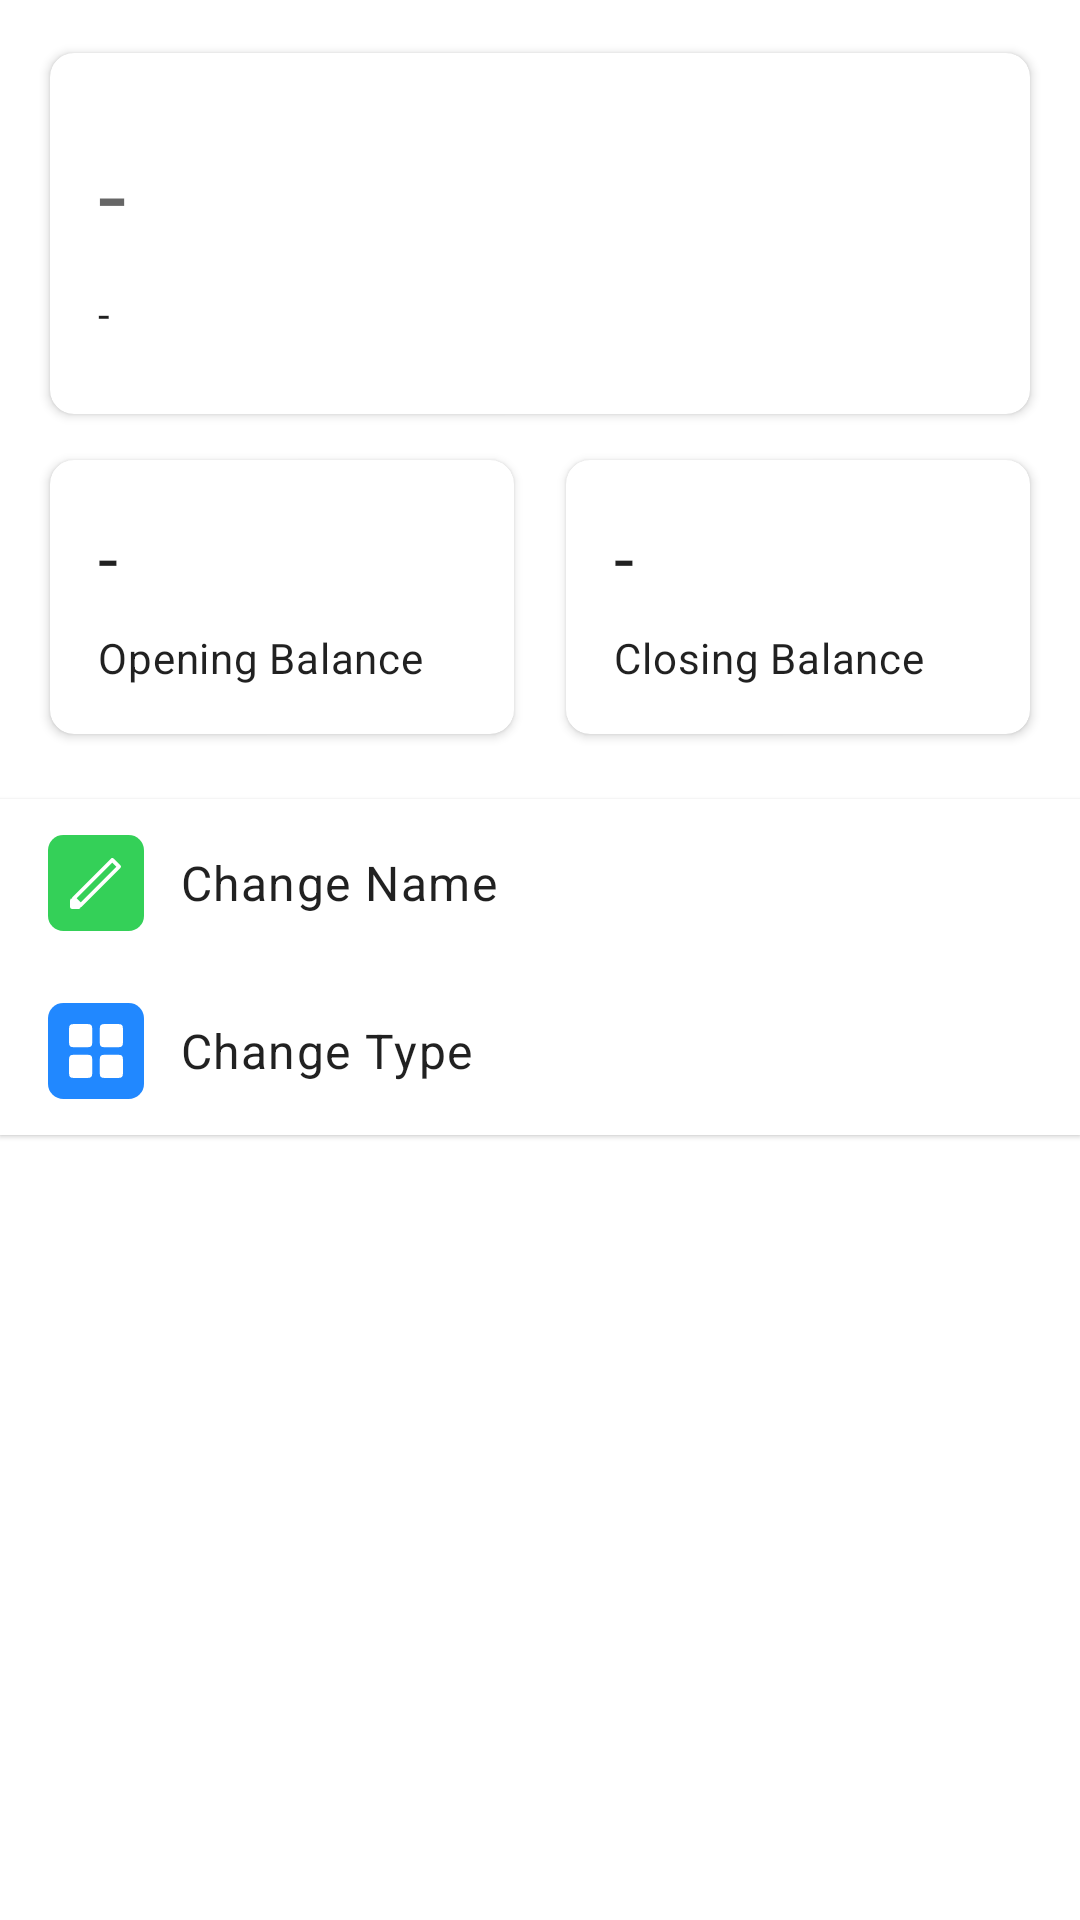

Named icons in this screenshot (1080px x 1920px) and their bounding boxes, (x1=x1, y1=y1, x2=x2, y2=y2):
Change Ledger Name Icon: (x1=48, y1=835, x2=144, y2=931)
Change Ledger Type Icon: (x1=48, y1=1003, x2=144, y2=1099)
